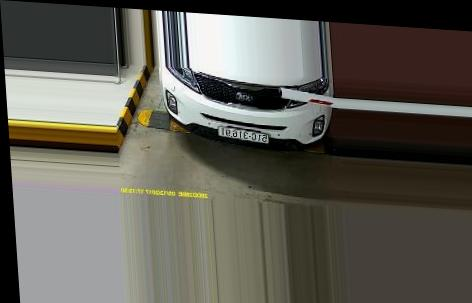License_Plate: (214, 122, 272, 148)
